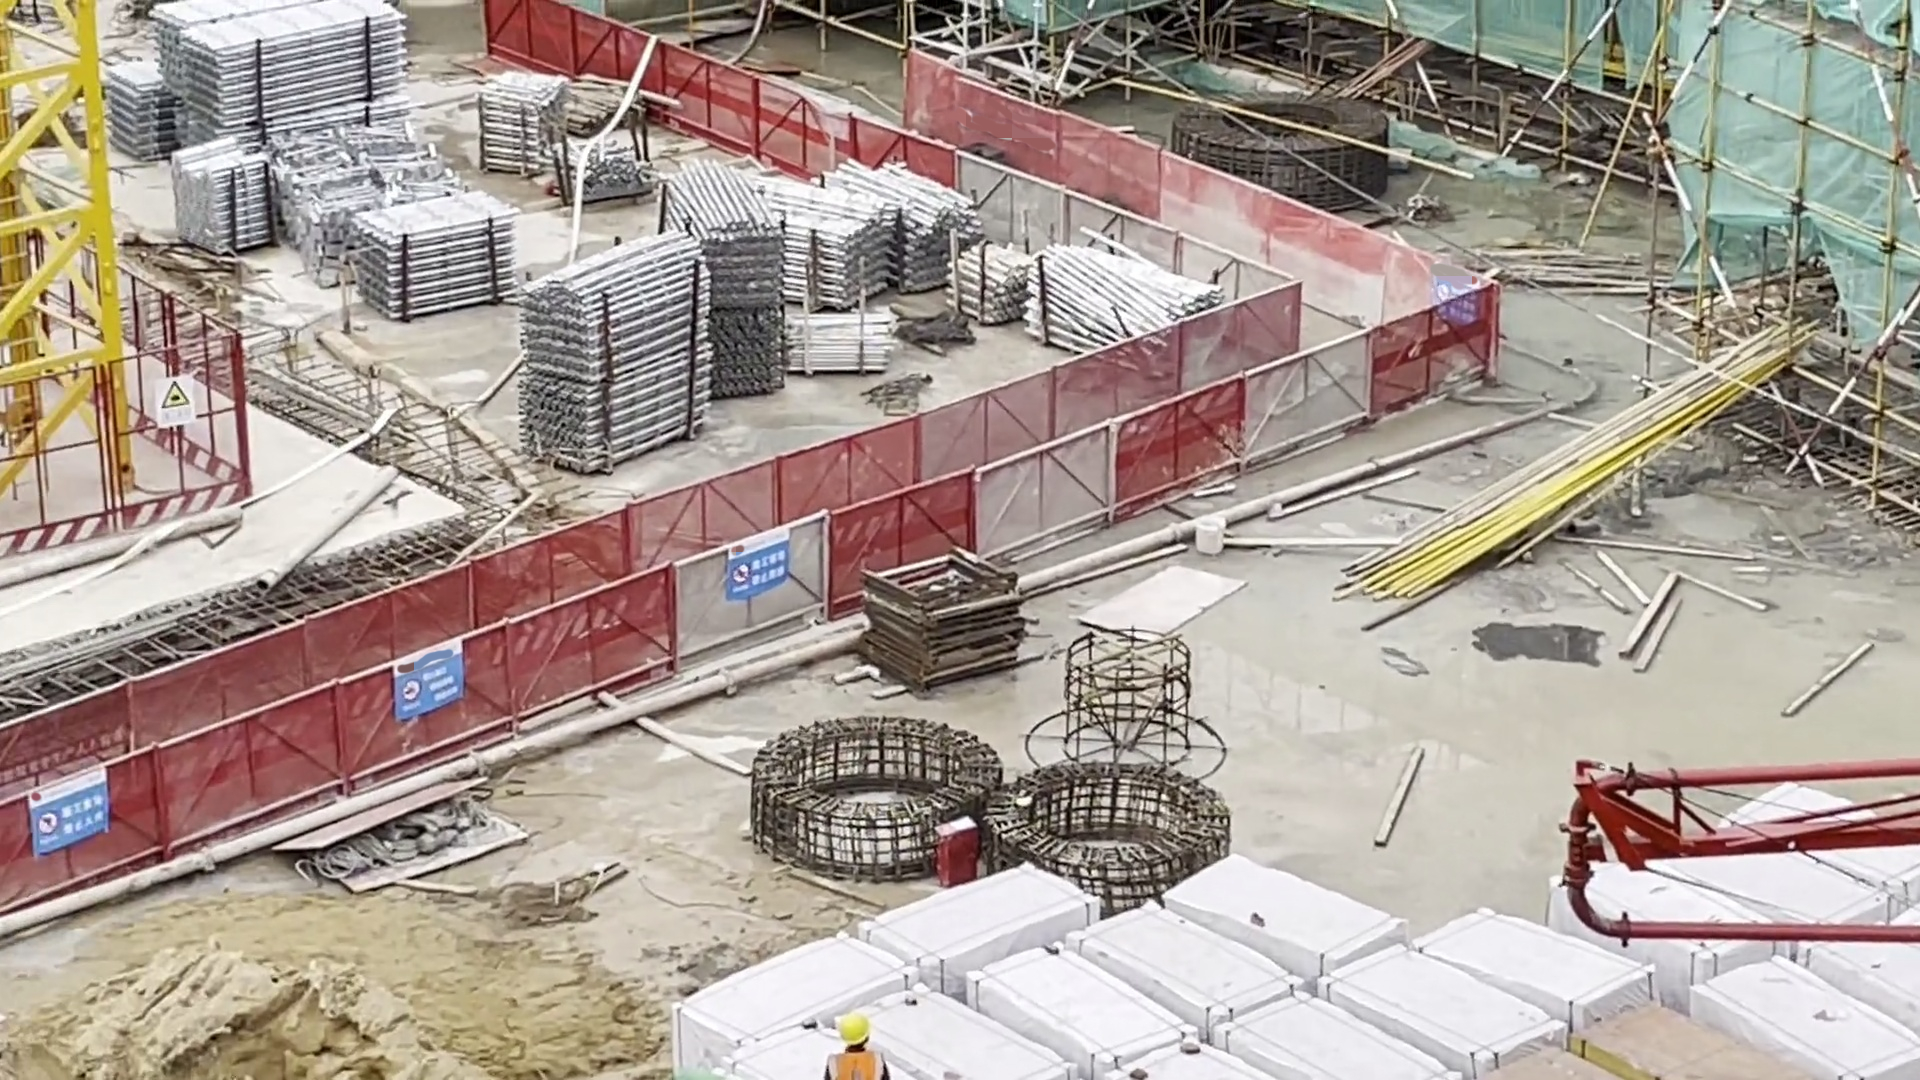person: (821, 1007, 893, 1080)
scaffold: (518, 229, 709, 479), (153, 1, 406, 125), (664, 156, 784, 399), (1027, 242, 1223, 376), (355, 188, 518, 317), (837, 165, 959, 288), (786, 174, 890, 305), (170, 136, 278, 254), (478, 71, 572, 174), (788, 313, 896, 372), (108, 64, 174, 158), (957, 243, 1027, 325)
slogan: (34, 768, 107, 860), (395, 639, 462, 721), (727, 528, 790, 600), (1432, 263, 1480, 326)
vest: (827, 1051, 886, 1080)
